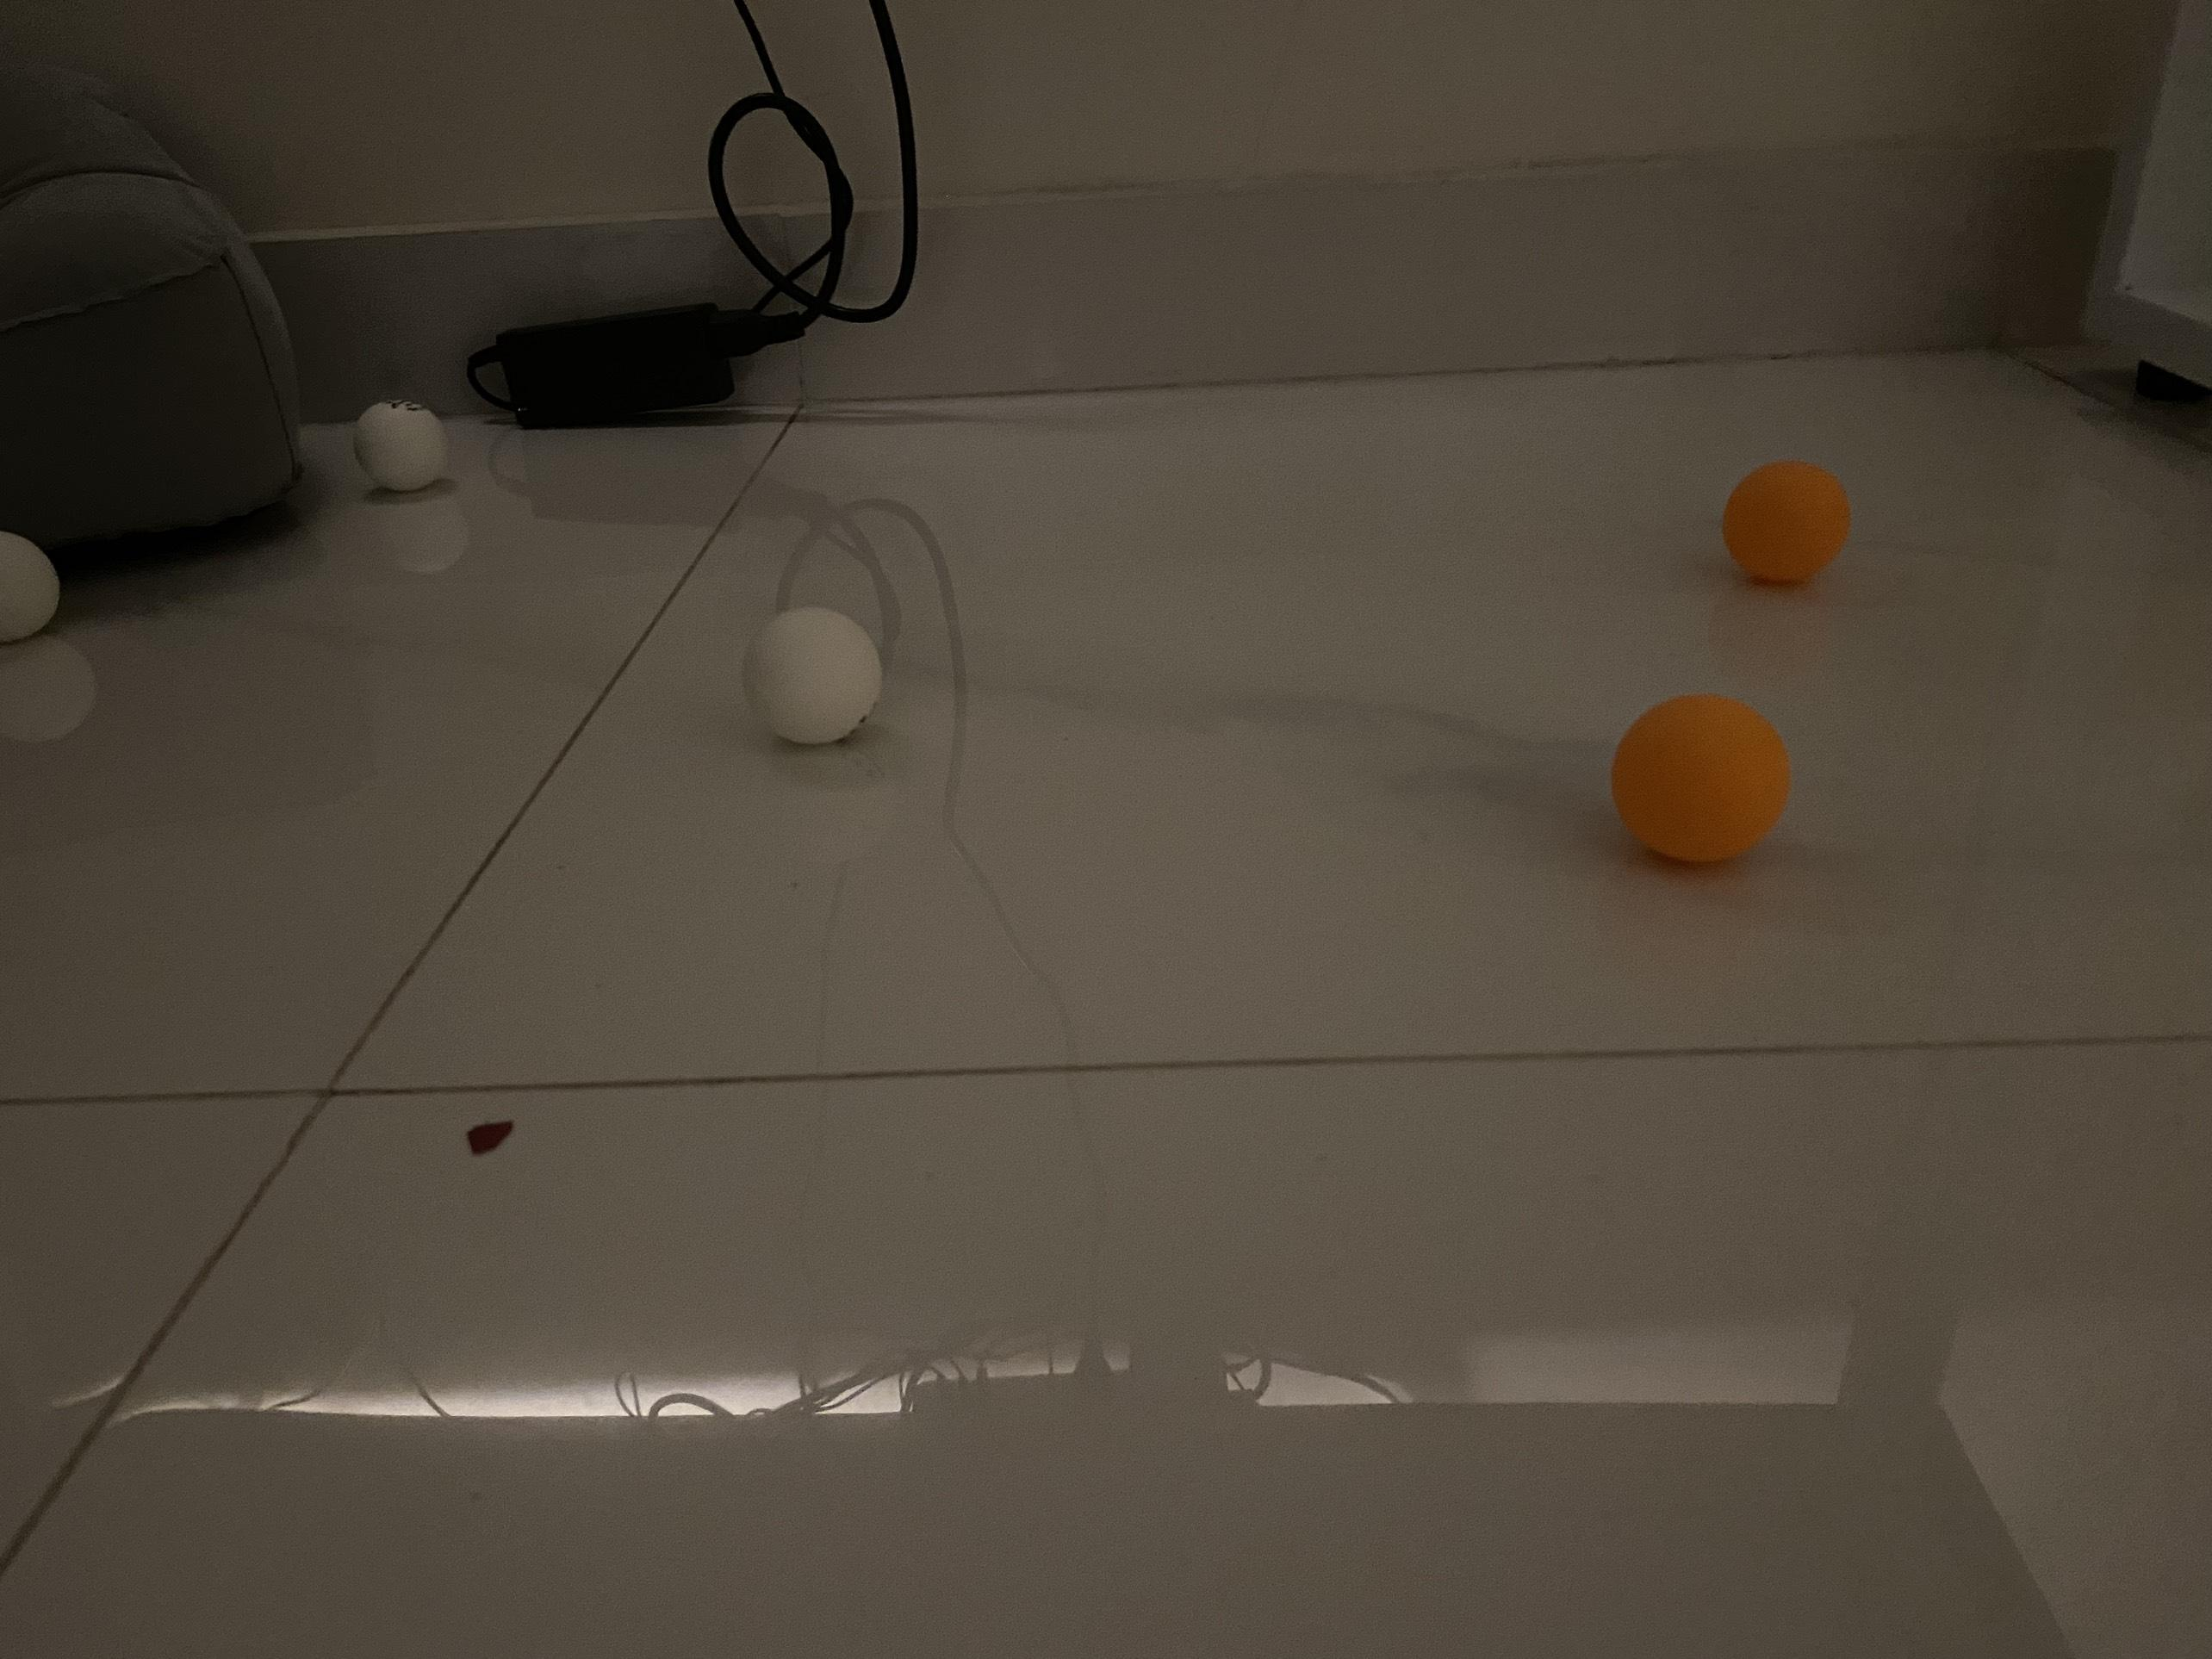oball: (1613, 688, 1794, 864), (1728, 453, 1851, 582)
